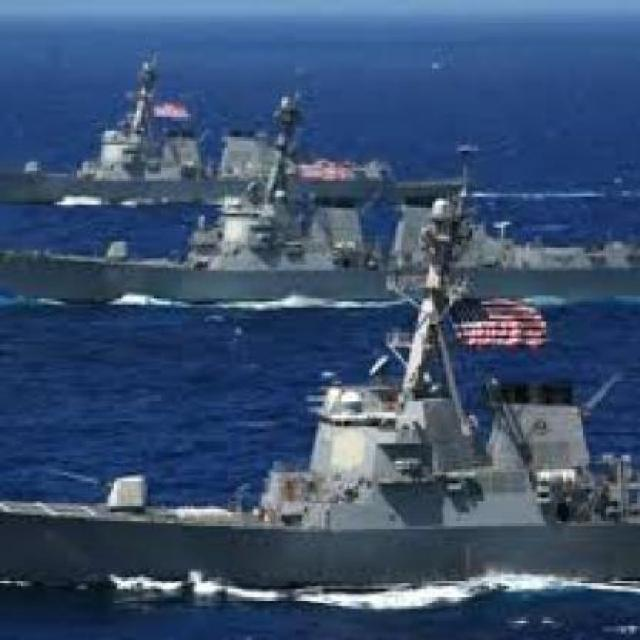warship2: (1, 217, 638, 590), (3, 83, 639, 314), (1, 58, 459, 215)
